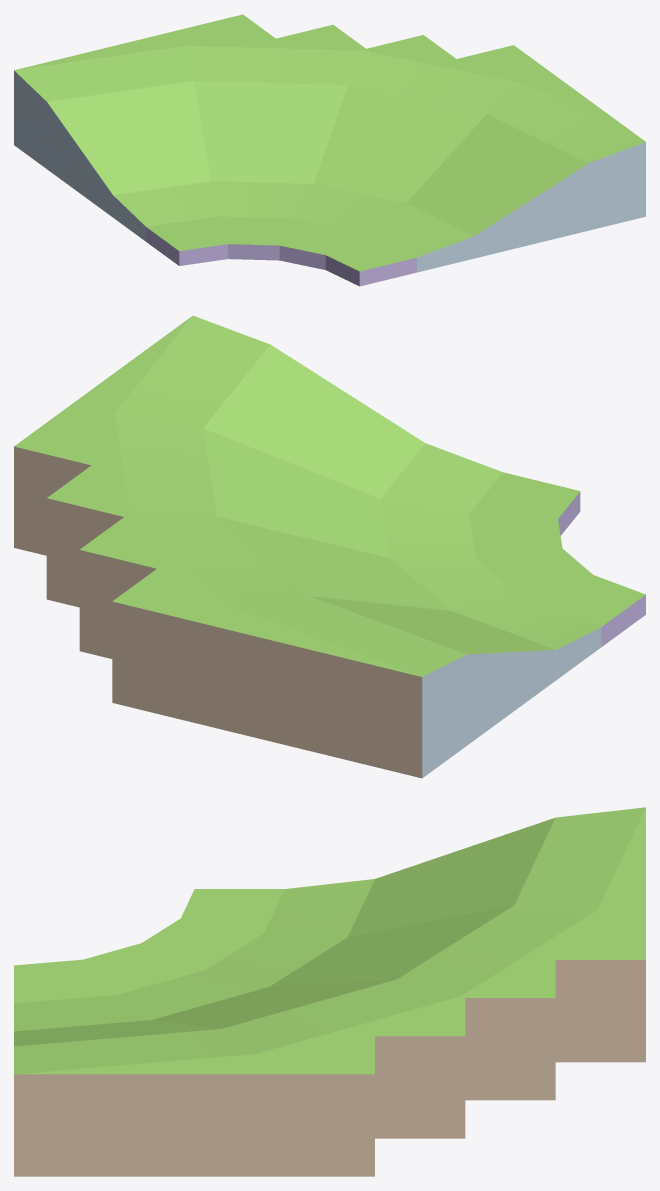
File: Grass_Hill_Gentle_Curve_Inner_6x6.fbx
3 renders of one model, top to bottom at view 1: azimuth 30°, elevation 25°; view 2: azimuth 150°, elevation 25°; view 3: azimuth 270°, elevation 25°, orthographic. The views are drawn at different scales.
Parts seen in each view (by area): view 1: Grass_Hill_Gentle_Curve_Inner_6x6; view 2: Grass_Hill_Gentle_Curve_Inner_6x6; view 3: Grass_Hill_Gentle_Curve_Inner_6x6.
Boxes of the visible parts, <box> form: Grass_Hill_Gentle_Curve_Inner_6x6: <box>14,14,645,286</box>; Grass_Hill_Gentle_Curve_Inner_6x6: <box>14,315,645,778</box>; Grass_Hill_Gentle_Curve_Inner_6x6: <box>14,807,645,1176</box>.
Size of the model in its own units: 700 by 125 by 700.
